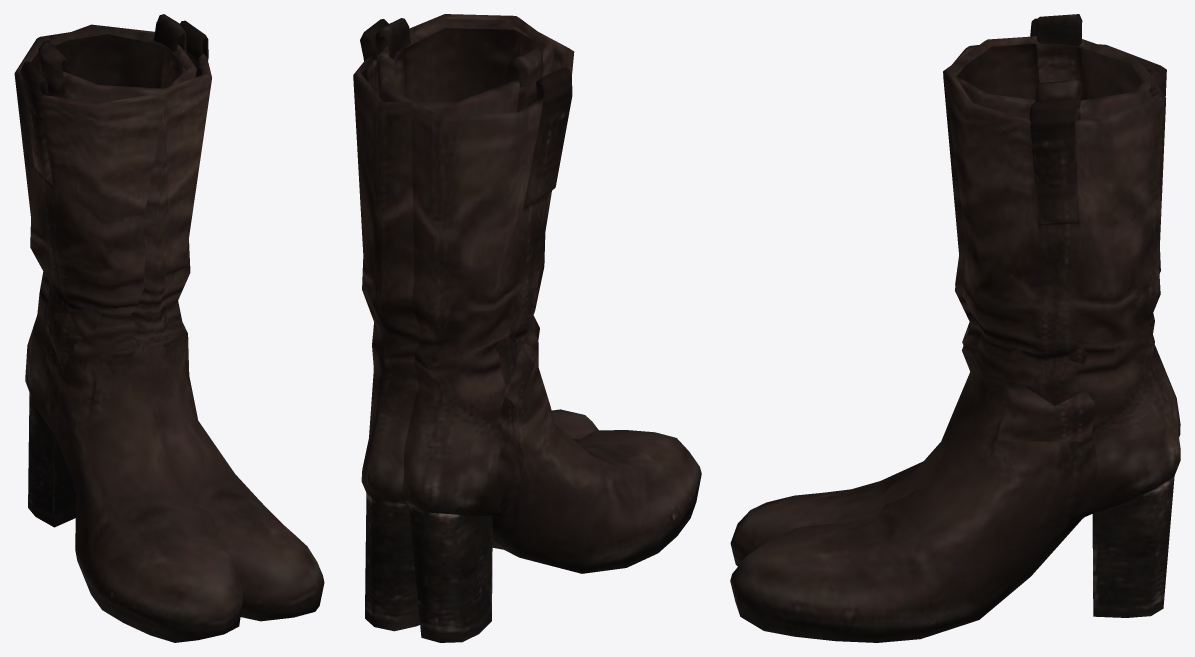
The model's file is footwear-boots.glb.
3 views of the same model, side by side, from view 1: azimuth 30°, elevation 25°; view 2: azimuth 150°, elevation 25°; view 3: azimuth 270°, elevation 25° (orthographic). The views are drawn at different scales.
Parts seen in each view (by area): view 1: foot_left, foot_right; view 2: foot_left, foot_right; view 3: foot_right, foot_left.
Part boxes in pixels (left/top/right/bottom): foot_left: left=14, top=14, right=324, bottom=621; foot_right: left=38, top=20, right=242, bottom=642; foot_left: left=375, top=18, right=598, bottom=642; foot_right: left=353, top=14, right=701, bottom=631; foot_right: left=730, top=14, right=1180, bottom=617; foot_left: left=730, top=18, right=1180, bottom=642.
Size of the model in its own units: 0.1415 by 0.3513 by 0.2615.
1 material, 1 textured.
